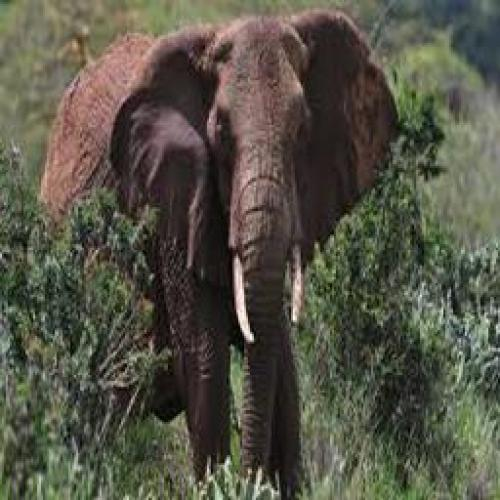african_elephant-endangered: (37, 11, 400, 464)
